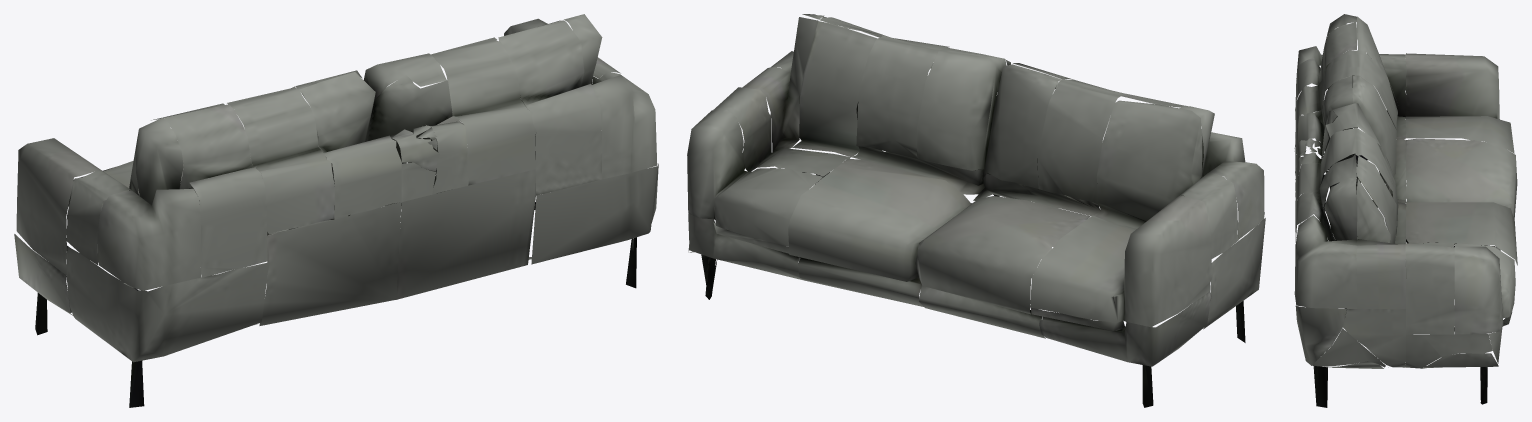
The picture shows the model from 3 angles, left to right: view 1: azimuth 30°, elevation 25°; view 2: azimuth 150°, elevation 25°; view 3: azimuth 270°, elevation 25°; orthographic projection. The views are drawn at different scales.
Visible parts, largest first — view 1: geometry_0; view 2: geometry_0; view 3: geometry_0.
Part boxes in pixels (x1,y1,x2,y2): geometry_0: (14,14,658,407); geometry_0: (687,14,1265,407); geometry_0: (1294,14,1517,407).
Bounding box in the file's own units: 1.8 × 0.8644 × 0.8188.
1 material, 1 textured.
